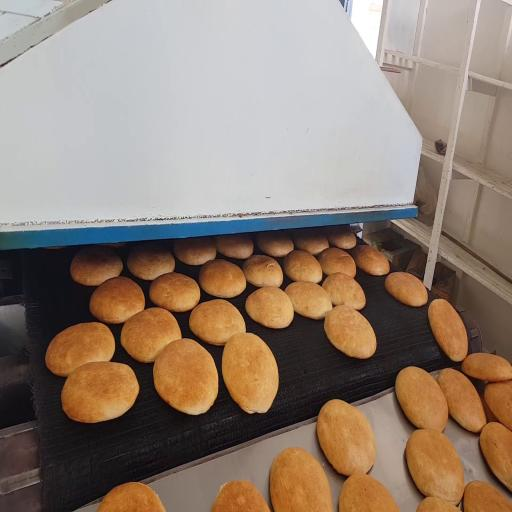bread: (154, 339, 218, 414), (62, 362, 139, 422), (222, 333, 278, 413), (317, 400, 375, 475), (406, 430, 464, 504), (270, 448, 333, 511), (46, 322, 114, 376), (396, 367, 448, 432), (121, 308, 181, 362), (437, 369, 486, 432), (324, 306, 376, 358), (90, 277, 145, 323), (190, 300, 245, 345), (428, 299, 467, 361), (339, 473, 399, 511), (480, 422, 511, 490), (150, 273, 200, 312), (71, 247, 122, 285), (246, 287, 293, 328), (98, 483, 165, 511), (199, 260, 246, 298), (285, 282, 332, 319), (127, 244, 175, 280), (212, 481, 269, 511), (322, 273, 365, 310), (385, 272, 427, 306), (462, 353, 511, 382), (464, 481, 511, 511), (242, 255, 283, 287), (484, 381, 511, 429), (283, 250, 322, 283), (174, 237, 216, 265), (318, 248, 355, 277), (353, 246, 389, 275), (214, 234, 253, 259), (256, 231, 293, 257), (294, 231, 329, 255), (326, 226, 356, 249), (417, 497, 459, 511), (479, 390, 497, 422), (100, 242, 126, 247)
